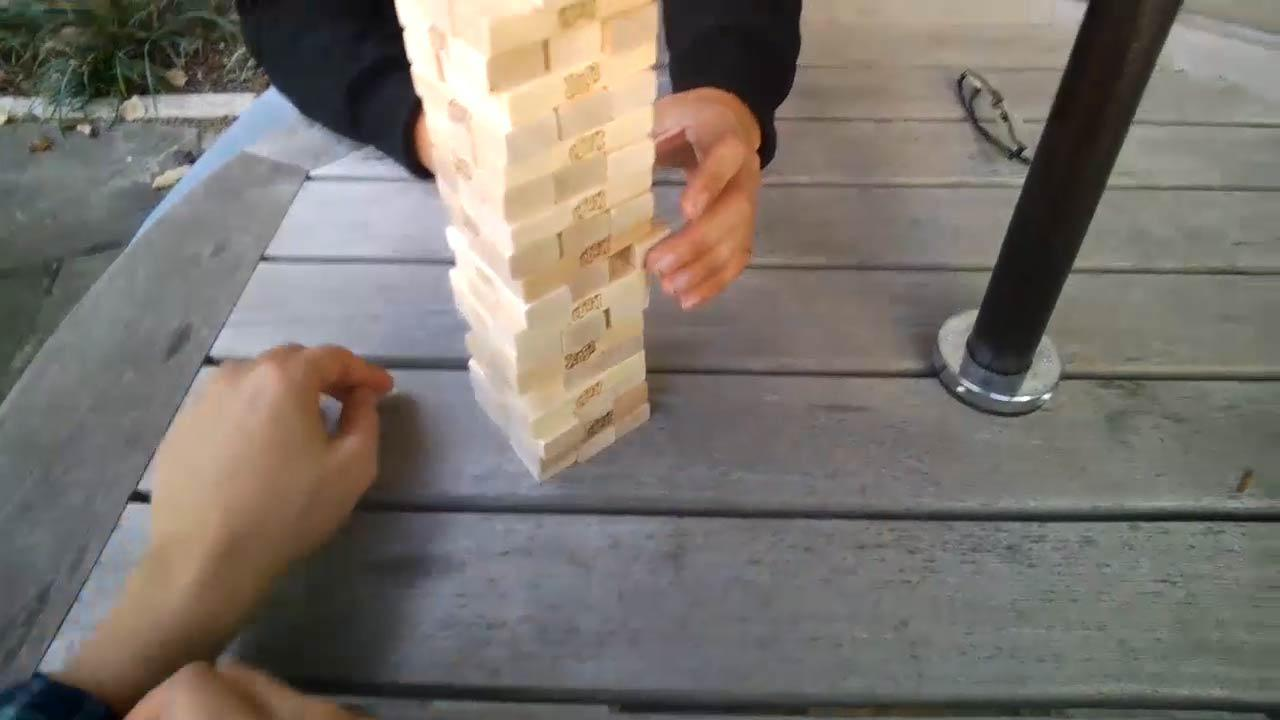hand: (147, 343, 393, 579), (650, 88, 765, 310), (117, 661, 345, 720)
